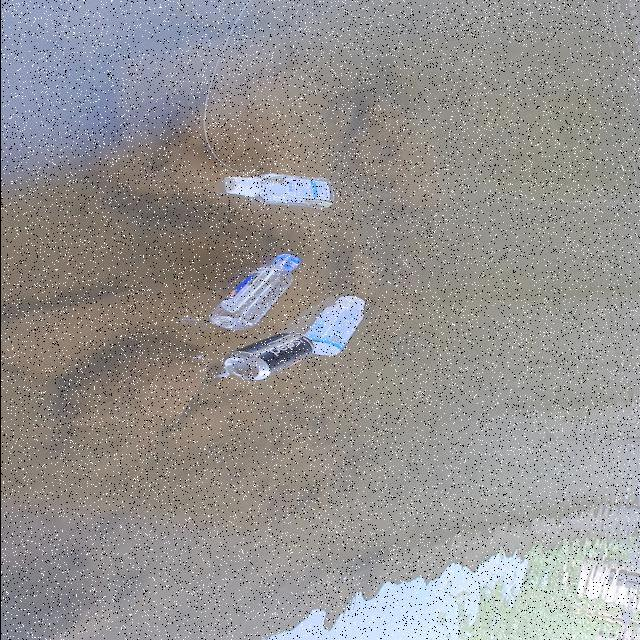Bottle: (202, 246, 304, 336), (217, 166, 343, 214), (211, 332, 313, 389), (304, 288, 374, 367)
